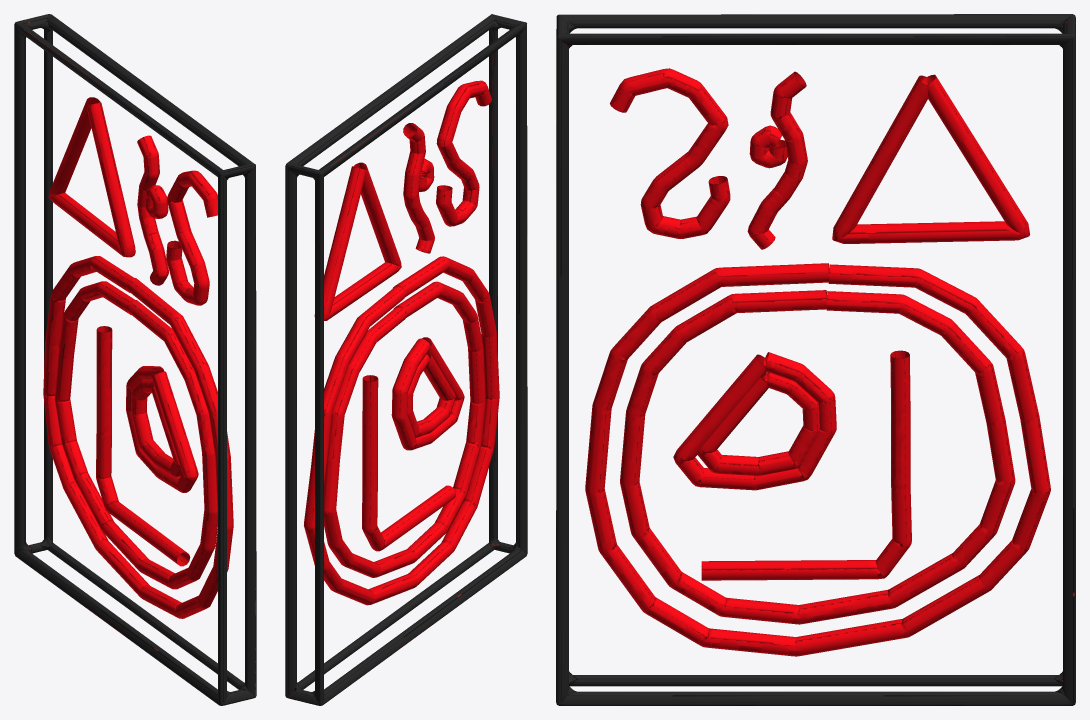
File: HoloPoster1.glb
3 views of the same model, side by side, from view 1: azimuth 30°, elevation 25°; view 2: azimuth 150°, elevation 25°; view 3: azimuth 270°, elevation 25° (orthographic). The views are drawn at different scales.
Visible parts, largest first — view 1: Motiv, Rahmen; view 2: Motiv, Rahmen; view 3: Motiv, Rahmen.
Boxes of the visible parts, x1=… form: Motiv: x1=43, y1=97, x2=233, y2=618; Rahmen: x1=14, y1=14, x2=256, y2=705; Motiv: x1=304, y1=80, x2=499, y2=605; Rahmen: x1=285, y1=14, x2=527, y2=705; Motiv: x1=585, y1=68, x2=1050, y2=656; Rahmen: x1=556, y1=14, x2=1075, y2=705.
Size of what is drawn, in the model's own units: 1.55 by 21.28 by 14.93.
2 materials, 2 textured.
